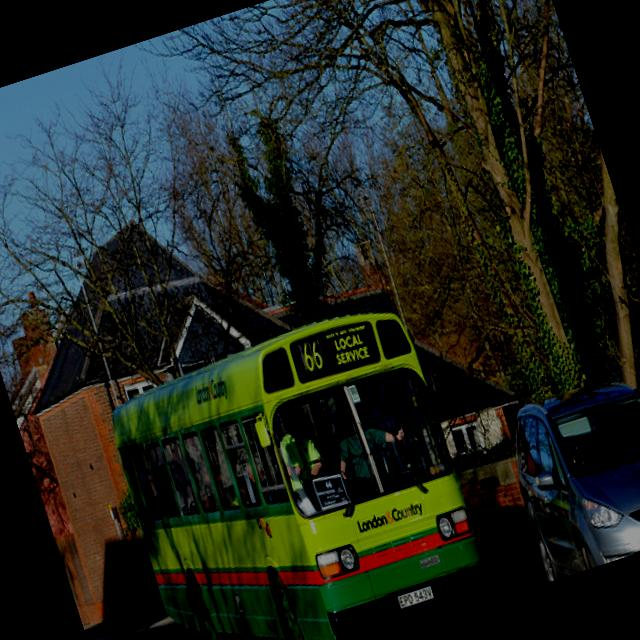Vehicle: (93, 302, 494, 640), (490, 358, 640, 583)
